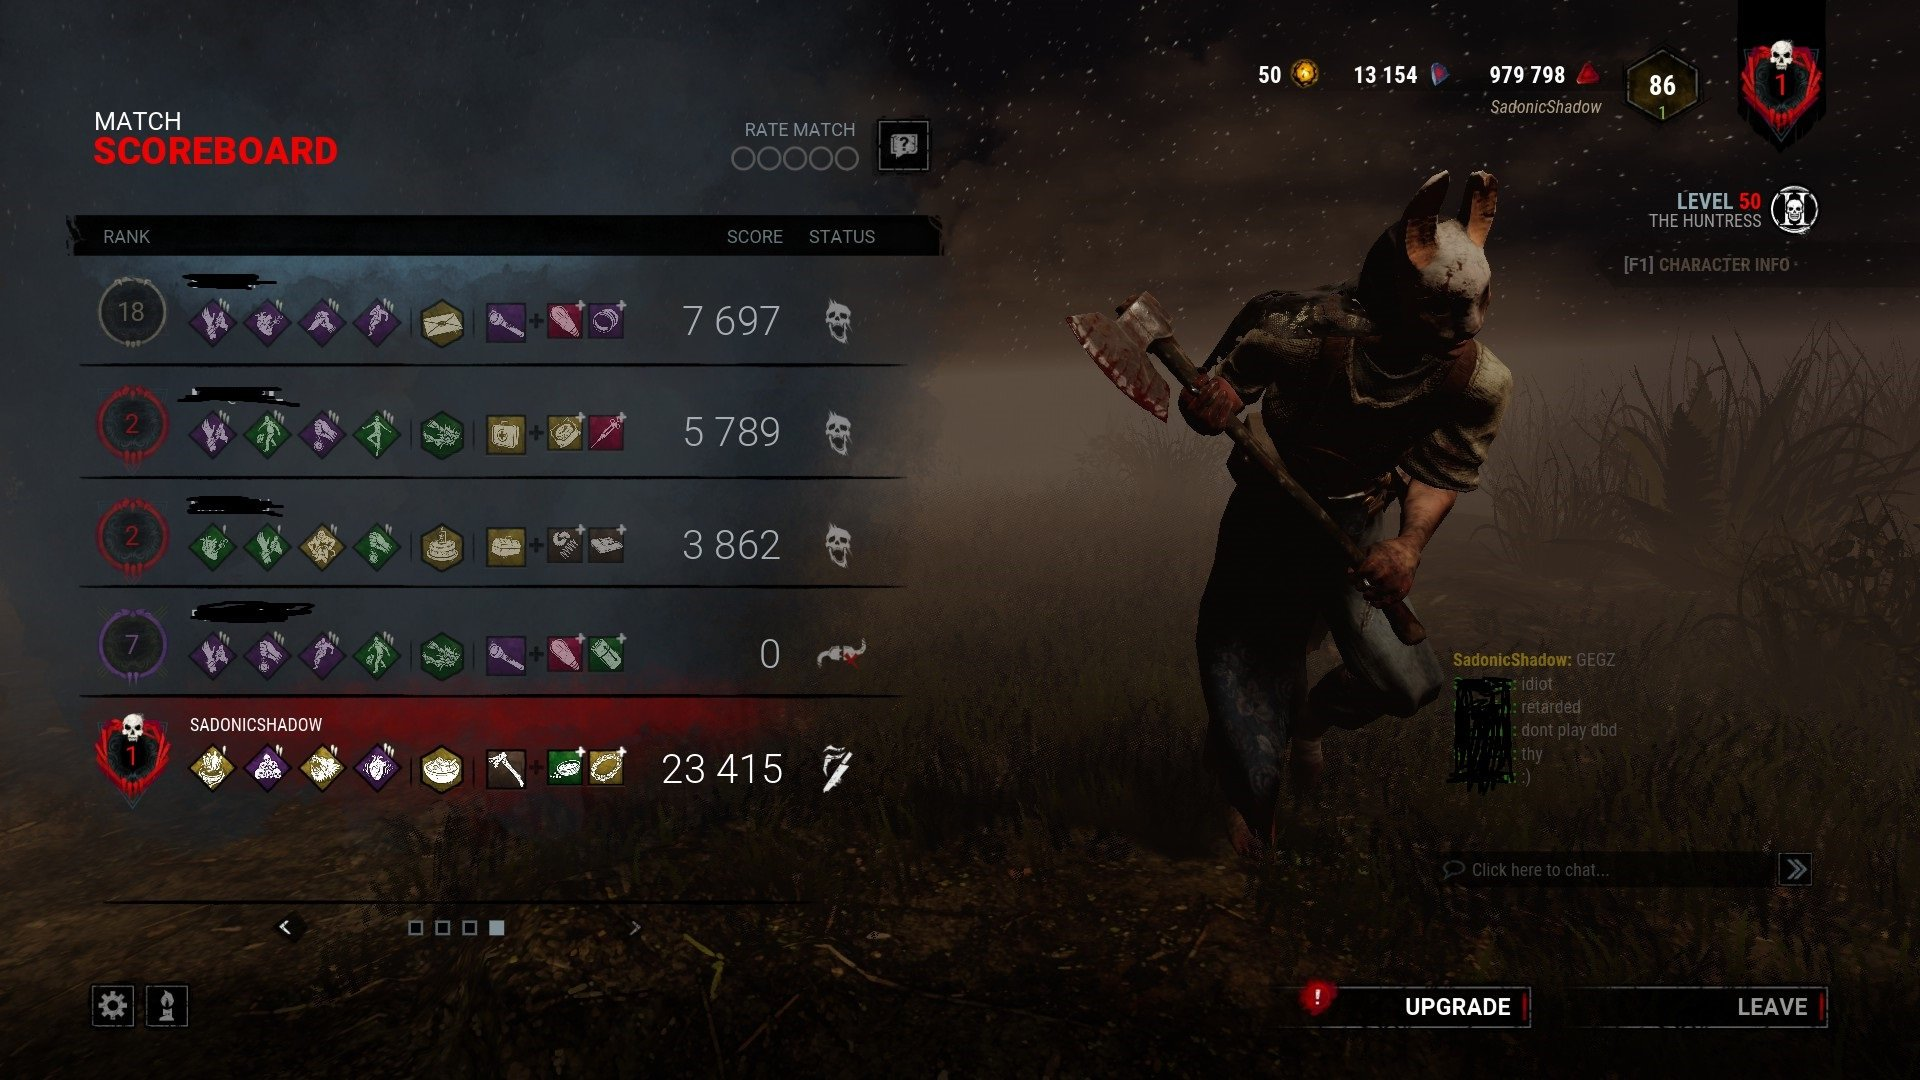adrenaline: (243, 298, 290, 347), (189, 522, 235, 571)
balanced_landing: (353, 411, 400, 460)
bbq_and_chilli: (189, 744, 236, 793)
beast_of_prey: (299, 744, 345, 793)
borrowed_time: (243, 630, 290, 679), (299, 411, 345, 460), (353, 524, 400, 572)
breakdown: (298, 524, 345, 572)
dead_hard: (298, 632, 345, 680), (353, 298, 400, 347)
decisive_strike: (298, 298, 345, 347)
distressing: (353, 744, 400, 793)
no_one_escapes_death: (244, 744, 291, 793)
self_care: (189, 298, 236, 347), (243, 522, 290, 571), (189, 630, 236, 679), (189, 411, 235, 460)
were_gonna_live_forever: (243, 411, 290, 460), (353, 632, 400, 680)
